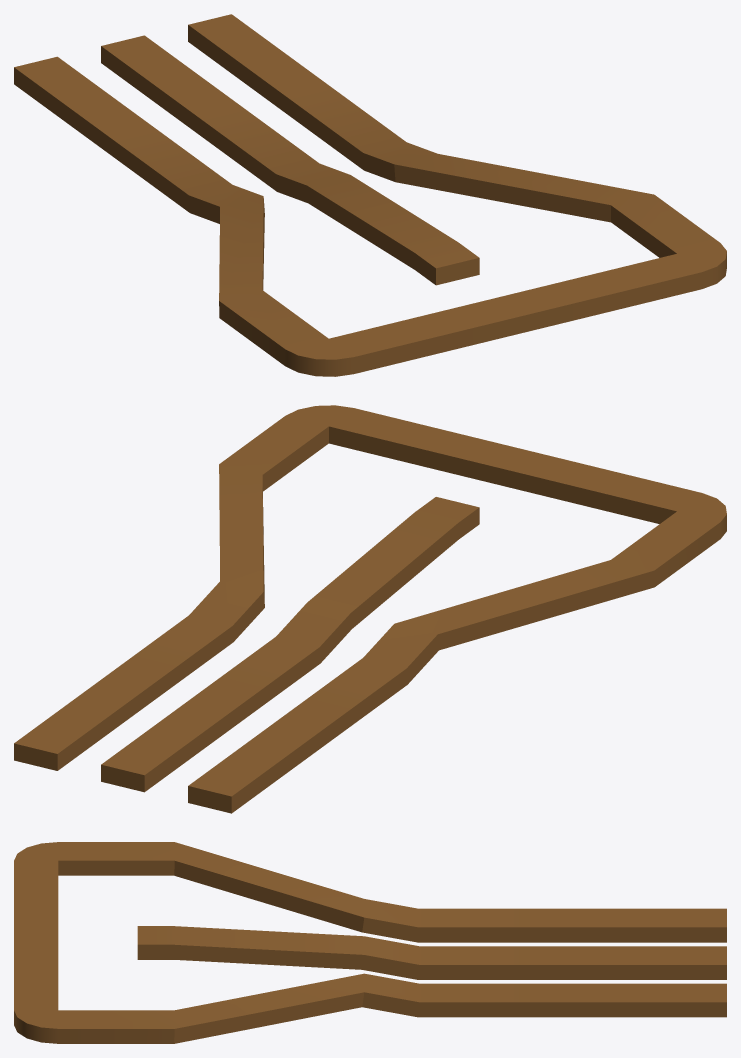
File: Conveyor0.fbx
The picture shows the model from 3 angles, top to bottom: view 1: azimuth 30°, elevation 25°; view 2: azimuth 150°, elevation 25°; view 3: azimuth 270°, elevation 25°; orthographic projection. The views are drawn at different scales.
Visible parts, largest first — view 1: Plane.363; view 2: Plane.363; view 3: Plane.363.
Part boxes in pixels (left/top/right/bottom): Plane.363: left=14, top=14, right=726, bottom=376; Plane.363: left=14, top=405, right=726, bottom=813; Plane.363: left=14, top=842, right=726, bottom=1043.
Size of the model in its own units: 40000 by 3500 by 64500.
